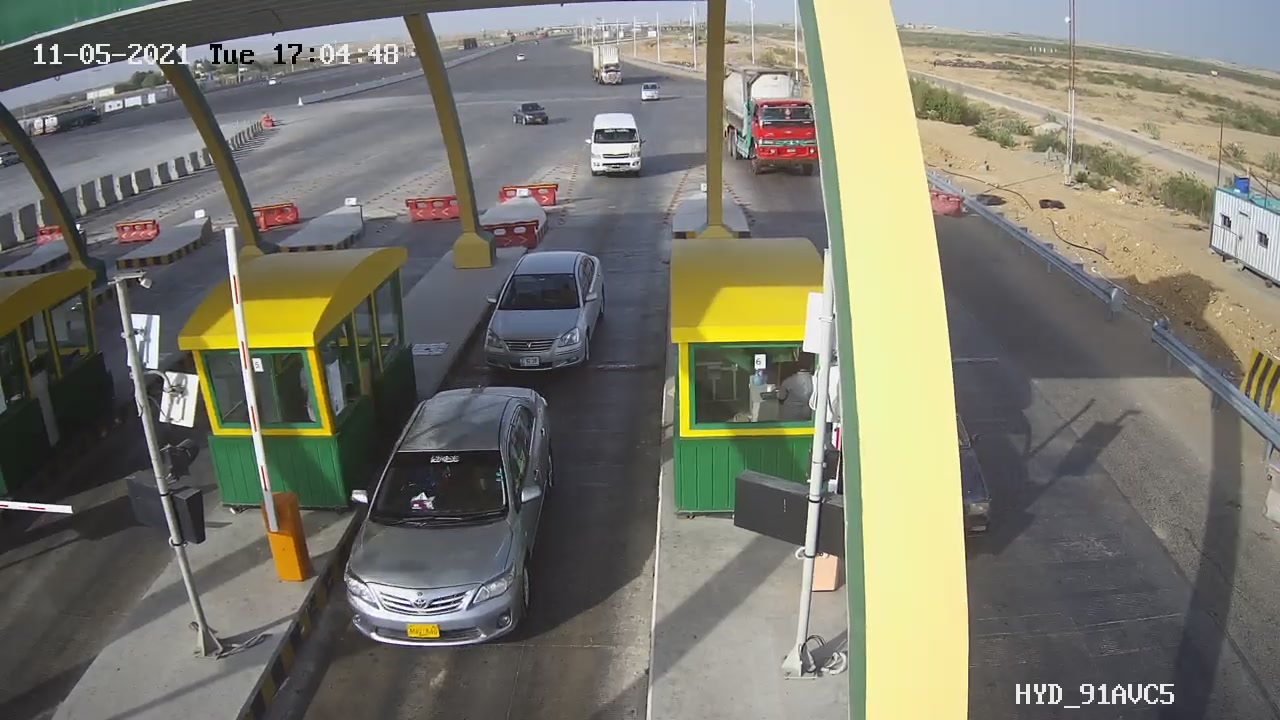F1: (325, 369, 581, 666), (469, 234, 621, 394)
